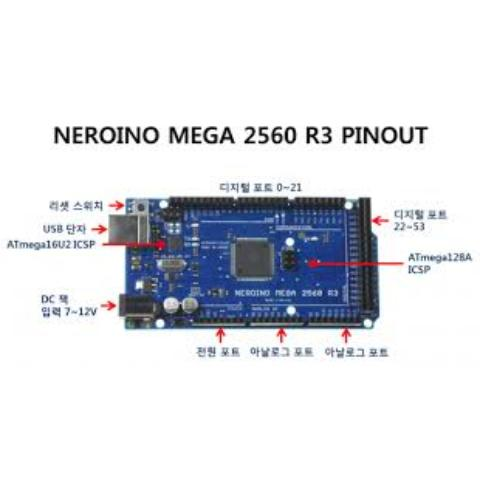Arduino-Mega: (103, 194, 386, 336)
